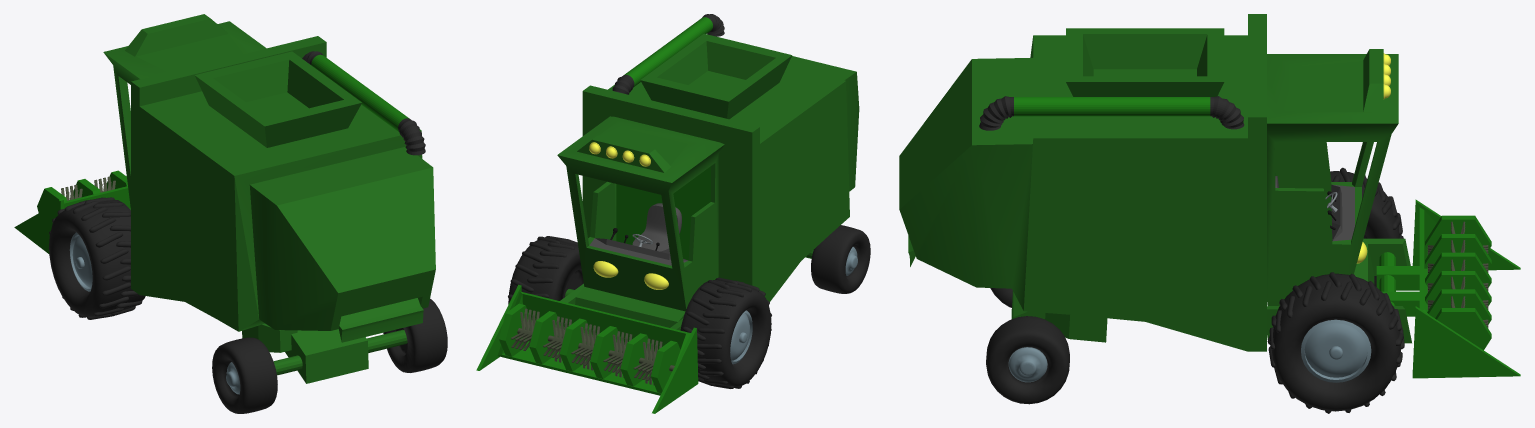
Rendered from harvester_noleh_kanan.glb.
3 views of the same model, side by side, from view 1: azimuth 30°, elevation 25°; view 2: azimuth 150°, elevation 25°; view 3: azimuth 270°, elevation 25° (orthographic). The views are drawn at different scales.
Visible parts, largest first — view 1: Sphere.001, farm_tractor.002, Cylinder.001, farm_tractor.000, farm_tractor.001, Cylinder.002, Cylinder.004, Cylinder.005; view 2: Sphere.001, Cylinder.004, farm_tractor.002, farm_tractor.015, Sphere.004, Cylinder.005, farm_tractor.000, Cylinder.002, farm_tractor.007, Sphere.003, Sphere.002; view 3: Sphere.001, farm_tractor.015, Cylinder.004, farm_tractor.001, Cylinder.002, farm_tractor.002, Cylinder.001, Cylinder.005.
Part boxes in pixels (left/top/right/bottom): Sphere.001: left=103, top=14, right=435, bottom=342; farm_tractor.002: left=48, top=197, right=145, bottom=319; Cylinder.001: left=242, top=323, right=407, bottom=383; farm_tractor.000: left=212, top=337, right=277, bottom=413; farm_tractor.001: left=383, top=298, right=447, bottom=372; Cylinder.002: left=302, top=51, right=425, bottom=155; Cylinder.004: left=14, top=170, right=130, bottom=253; Cylinder.005: left=61, top=176, right=115, bottom=200; Sphere.001: left=557, top=33, right=859, bottom=330; Cylinder.004: left=476, top=284, right=698, bottom=413; farm_tractor.002: left=680, top=277, right=771, bottom=388; farm_tractor.015: left=508, top=236, right=583, bottom=304; Sphere.004: left=616, top=166, right=710, bottom=260; Cylinder.005: left=511, top=308, right=674, bottom=385; farm_tractor.000: left=811, top=225, right=870, bottom=293; Cylinder.002: left=612, top=14, right=724, bottom=94; farm_tractor.007: left=632, top=203, right=681, bottom=253; Sphere.003: left=593, top=261, right=668, bottom=289; Sphere.002: left=589, top=142, right=650, bottom=166; Sphere.001: left=899, top=14, right=1411, bottom=351; farm_tractor.015: left=1267, top=272, right=1404, bottom=413; Cylinder.004: left=1376, top=199, right=1520, bottom=378; farm_tractor.001: left=986, top=316, right=1069, bottom=404; Cylinder.002: left=979, top=96, right=1244, bottom=130; farm_tractor.002: left=1330, top=167, right=1403, bottom=286; Cylinder.001: left=1011, top=291, right=1107, bottom=342; Cylinder.005: left=1427, top=221, right=1488, bottom=327.
Size of the model in its own units: 3.14 by 3.26 by 6.17.
